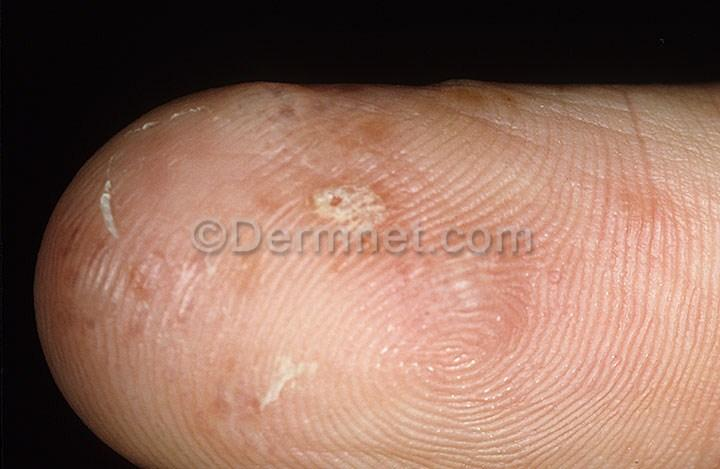Eczema: (61, 195, 279, 406), (269, 77, 435, 284), (421, 244, 594, 405)
